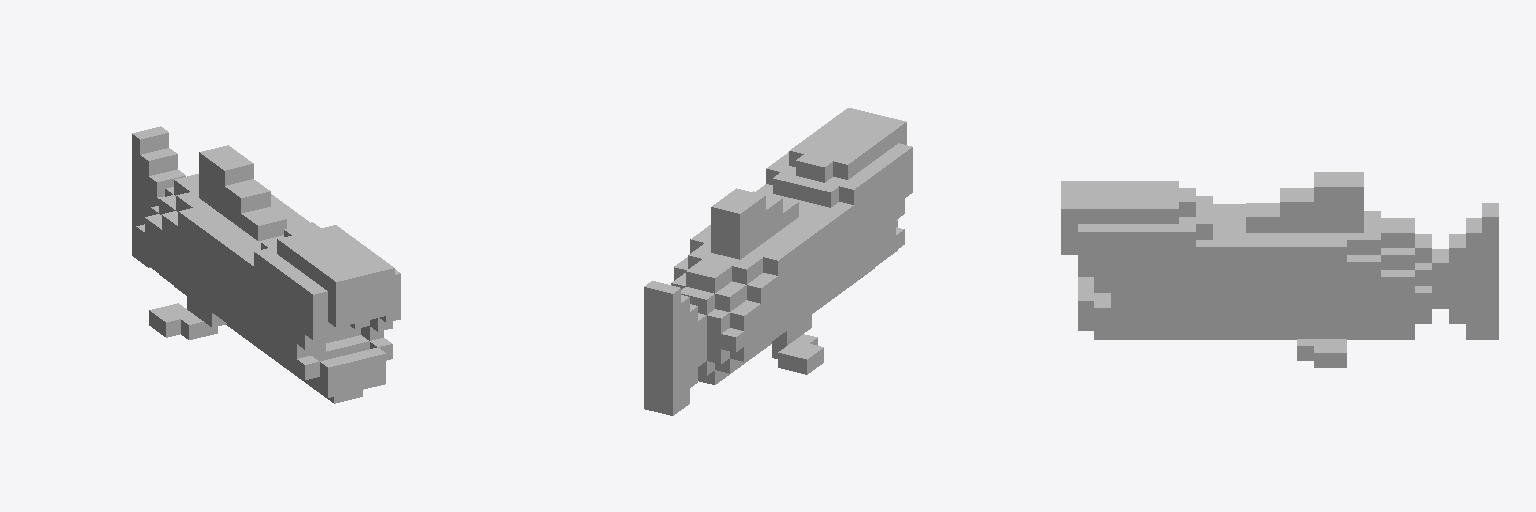
The model's file is SharkNumnum (1).obj.
The picture shows the model from 3 angles: view 1: azimuth 30°, elevation 25°; view 2: azimuth 150°, elevation 25°; view 3: azimuth 270°, elevation 25°; orthographic projection.
Visible parts, largest first — view 1: object 1; view 2: object 1; view 3: object 1.
Boxes of the visible parts, x1=… form: object 1: x1=132, y1=126, x2=400, y2=403; object 1: x1=644, y1=108, x2=912, y2=415; object 1: x1=1061, y1=172, x2=1498, y2=367.
Bounding box in the file's own units: 1 × 1 × 2.6.